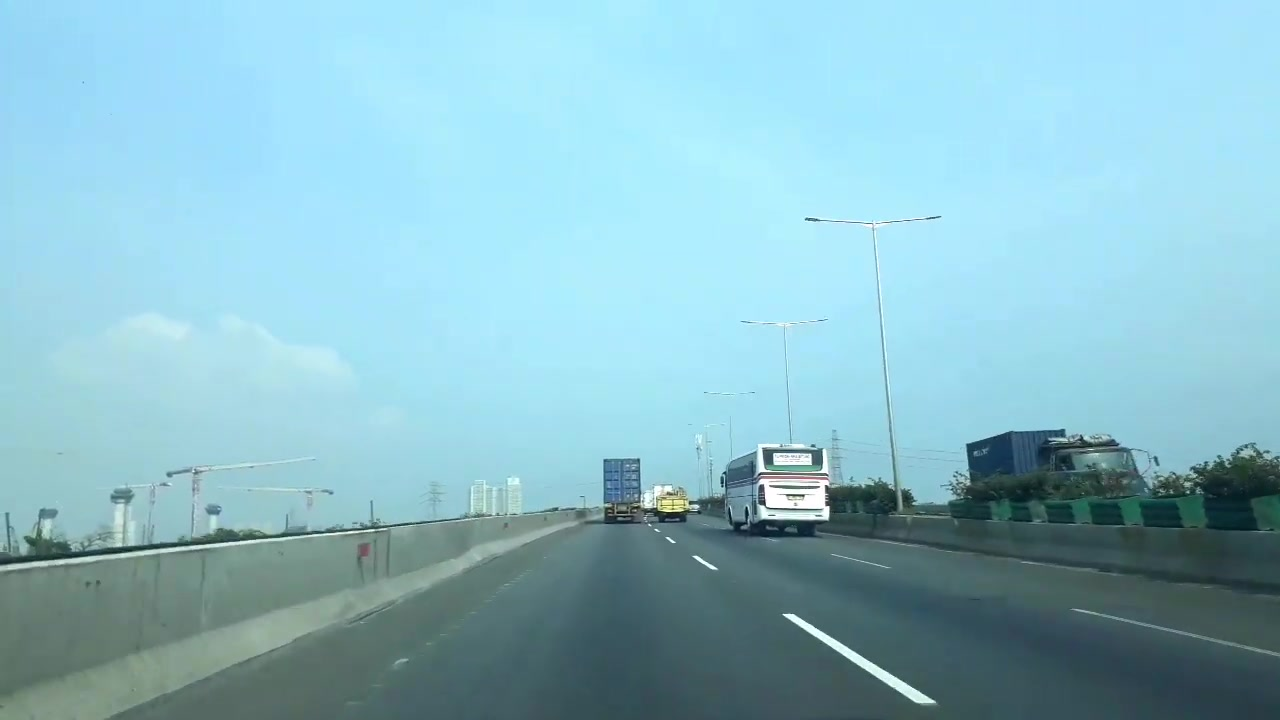plate_positive: (788, 495, 803, 500), (617, 506, 627, 510)
